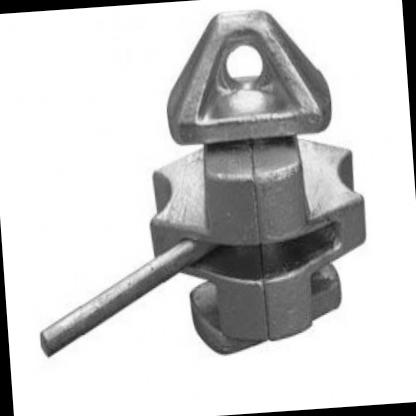Twistlock: (15, 2, 376, 374)
